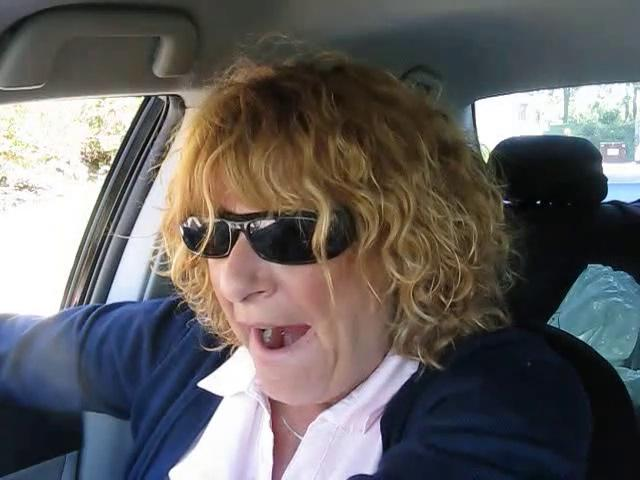yawn: (230, 306, 331, 371)
